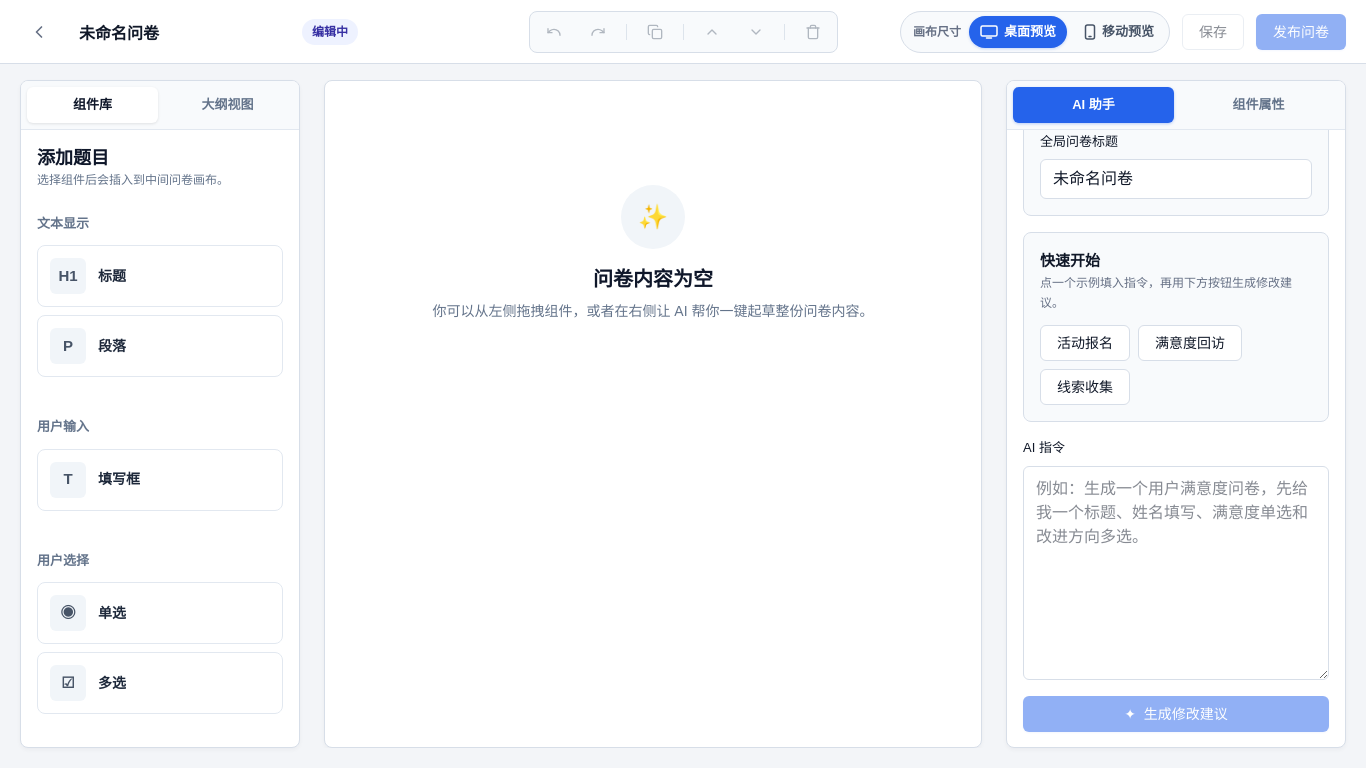
Test case: EditorShell › shows the local ai server error from the changes endpoint
(page scrolled)
Type "生成一个满意度问卷" into the text box named "AI prompt" at (1176, 572), box top-left (1023, 466), bottom-right (1329, 680)
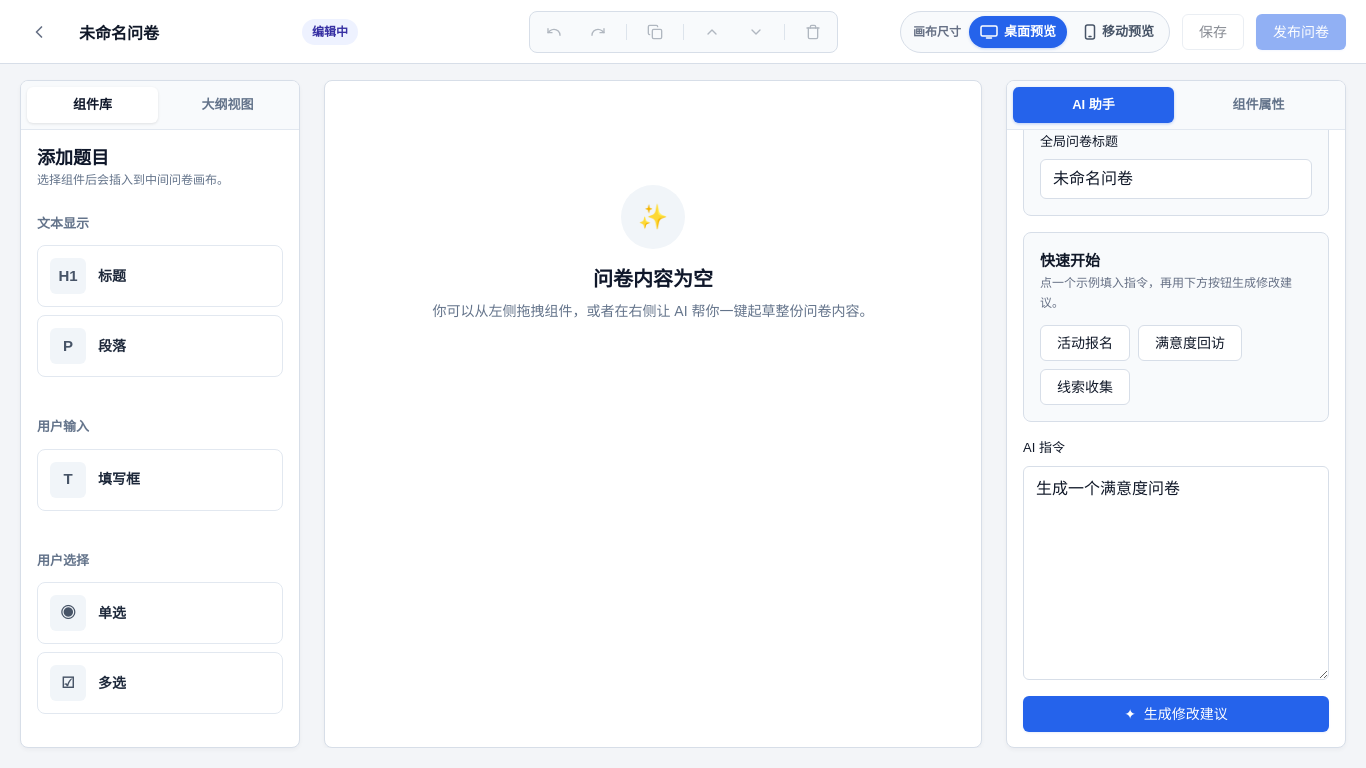
Click the button "✦ 生成修改建议" at (1176, 714), box top-left (1023, 696), bottom-right (1329, 732)
(page scrolled)
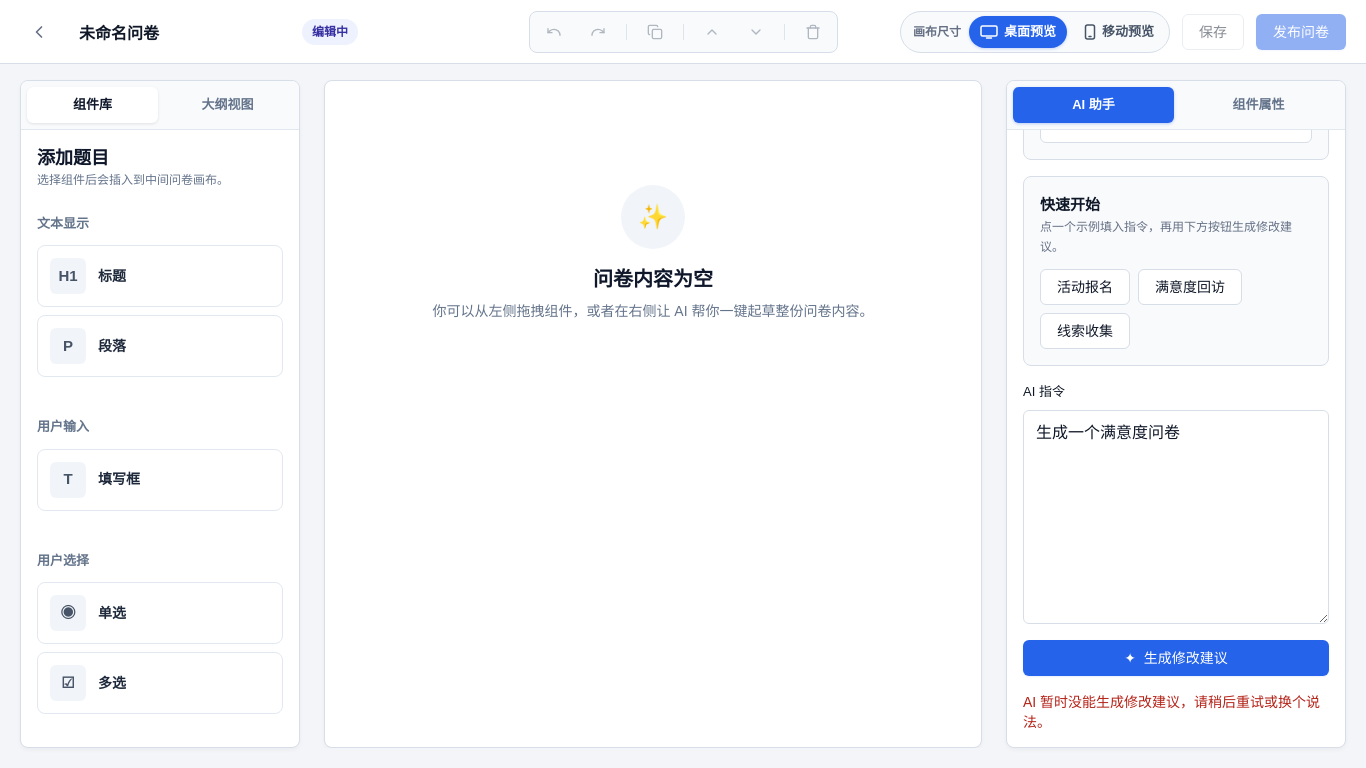
Check: the text "AI 暂时没能生成修改建议，请稍后重试或换个说法。" is shown, box top-left (1023, 692), bottom-right (1329, 732)
